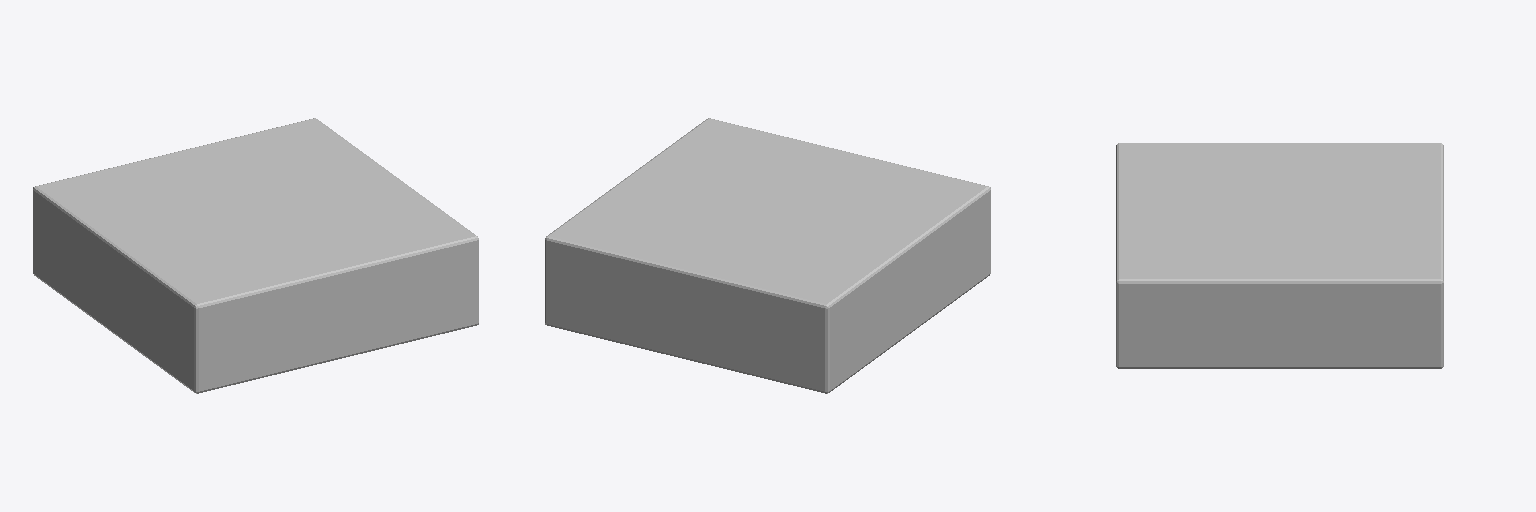
Rendered from Grass Block Provided OBJ.obj.
The picture shows the model from 3 angles: view 1: azimuth 30°, elevation 25°; view 2: azimuth 150°, elevation 25°; view 3: azimuth 270°, elevation 25°; orthographic projection.
Visible parts, largest first — view 1: streetBlocks100X100X30_20; view 2: streetBlocks100X100X30_20; view 3: streetBlocks100X100X30_20.
Part boxes in pixels (bbox=[...]): streetBlocks100X100X30_20: bbox=[33, 118, 478, 393]; streetBlocks100X100X30_20: bbox=[545, 118, 990, 393]; streetBlocks100X100X30_20: bbox=[1116, 143, 1443, 368].
Bounding box in the file's own units: 400 × 120 × 400.